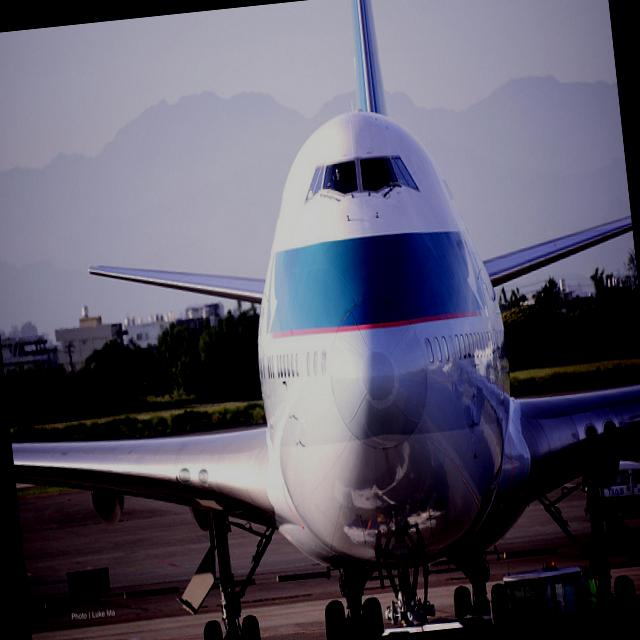Vehicle: (486, 558, 590, 622), (599, 455, 640, 519)
